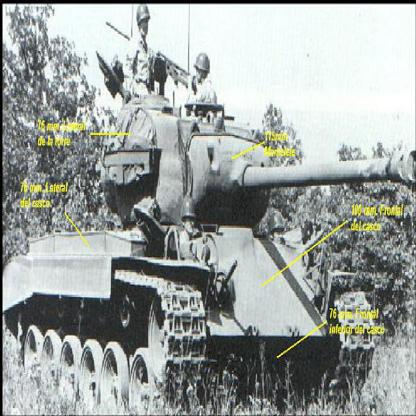Tank: (3, 70, 416, 416)
